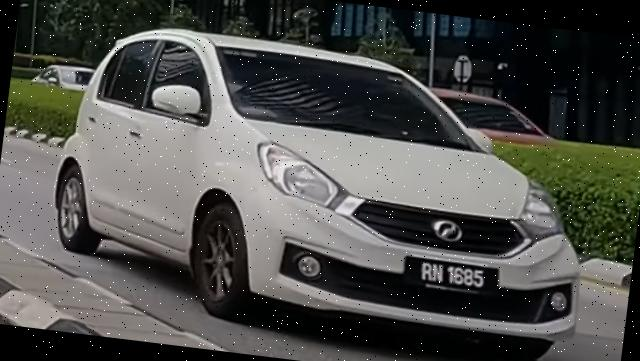License_Plate: (402, 253, 502, 298)
car: (41, 14, 607, 361), (32, 61, 96, 92)
